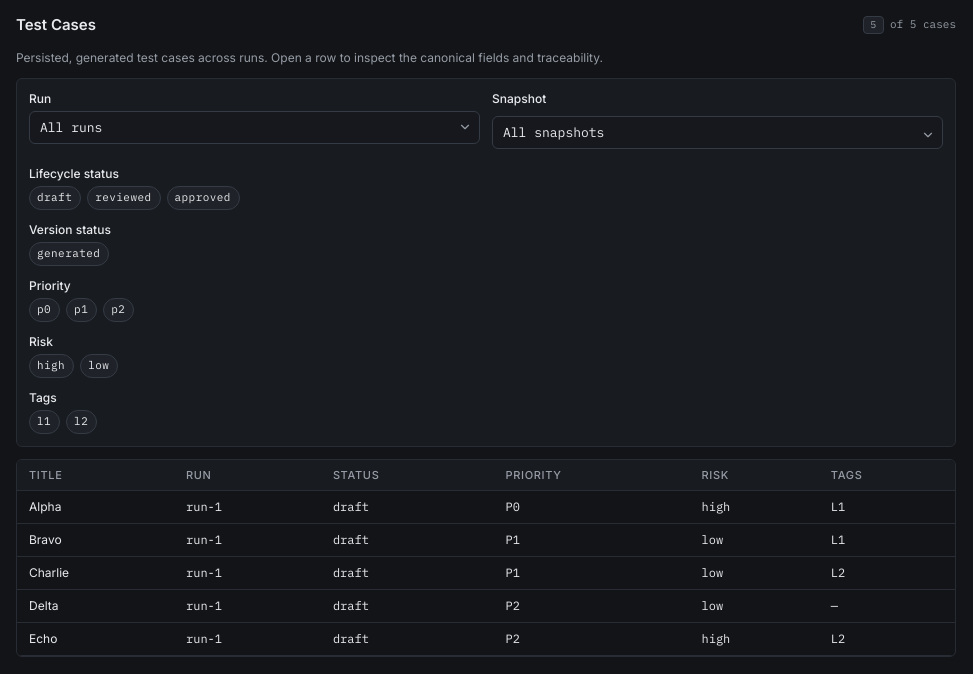
Test: TestCasesScreen › filters by priority via the chip group
Expected: the link "Alpha" is shown, [29,499,61,514]
Click the button "P0".
click(45, 310)  # box [29,298,60,322]
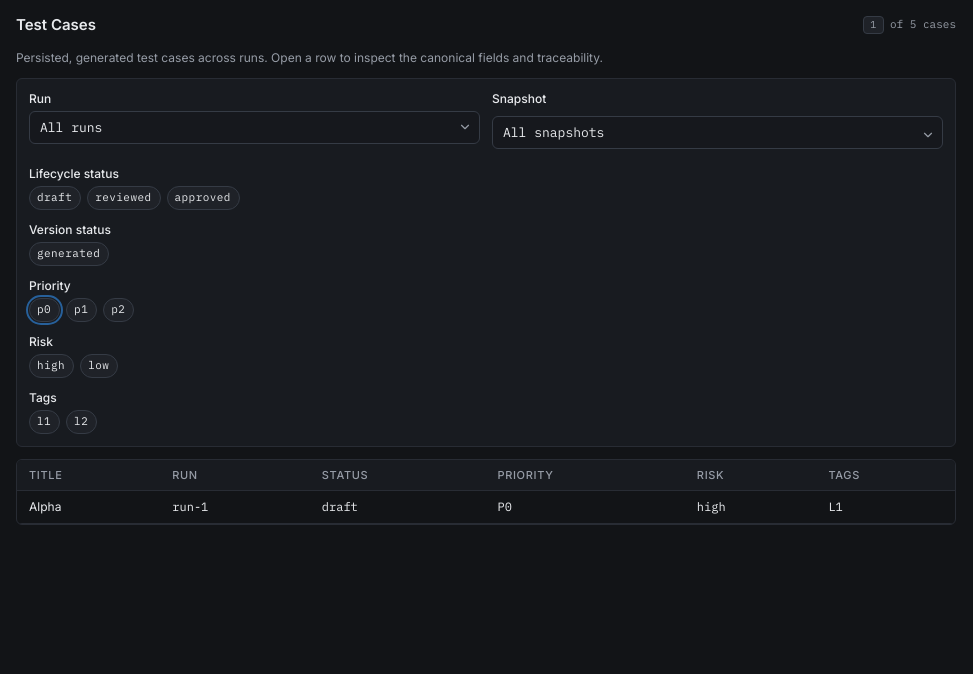
Expected: the link "Alpha" is shown, [29,499,61,514]
Expected: the link "Bravo" is gone
Expected: the link "Delta" is gone
Click the button "P0".
click(45, 310)  # box [29,298,60,322]
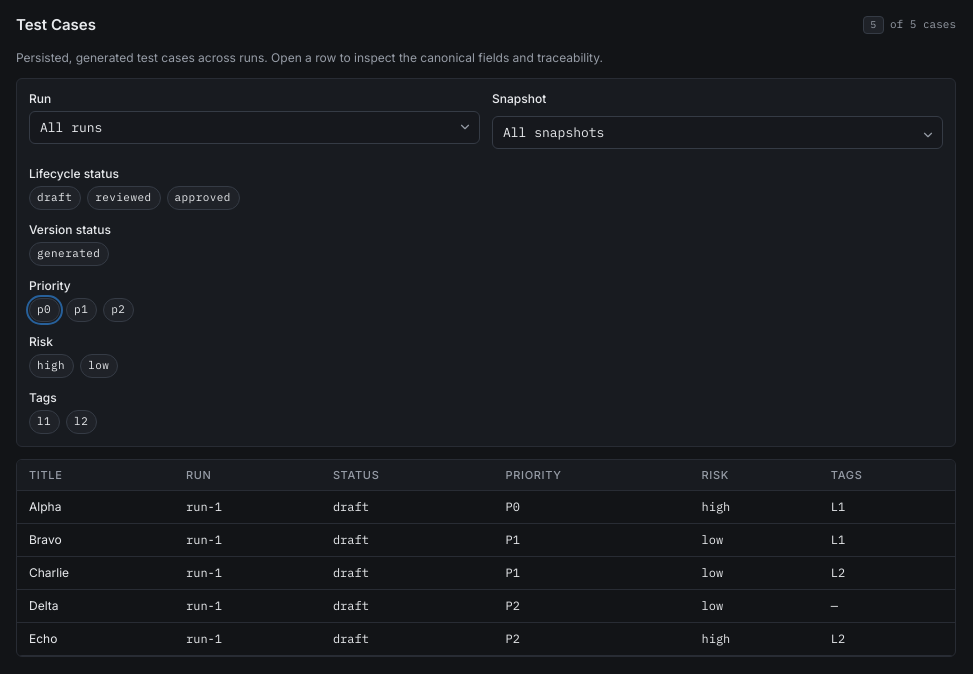
Expected: the link "Bravo" is shown, [29,532,62,547]
Expected: the link "Delta" is shown, [29,598,58,613]
